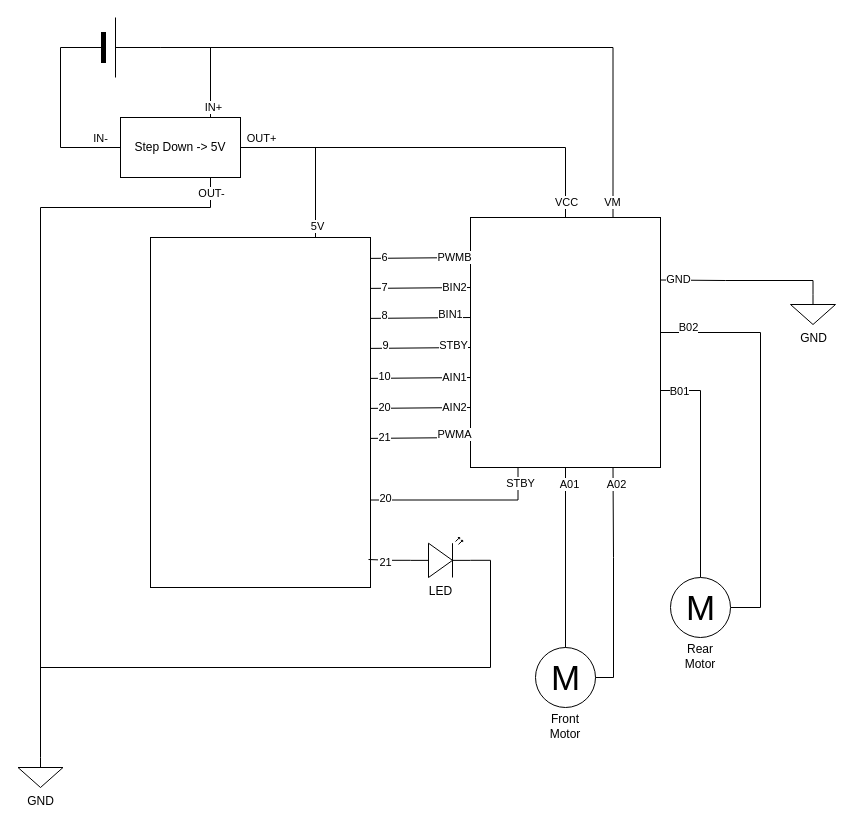
This 853x826 diagram has some shape labels left out. Each missing label, with the centre of its shape:
"7.4v" goes at pixel 110 47.
"ESP32-C3 supermini" goes at pixel 260 412.
"TB6612FNG" goes at pixel 565 342.
